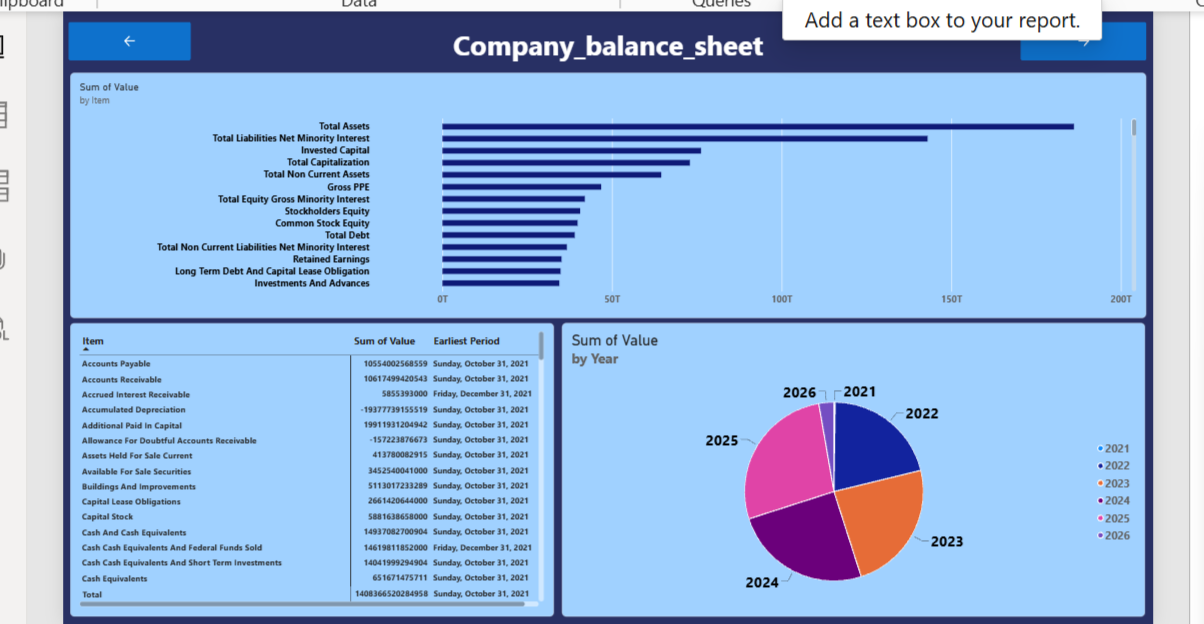

The page's visual inventory and layout, read from the dashboard file:
{"tool":"powerbi","page":{"name":"company_balance_sheet","canvas":[1920,1080],"ordinal":3},"visuals":[{"type":"textbox","box":[10.9,23.5,1896.5,83.2],"z":0},{"type":"barChart","fields":{"Category":["03_company_balance_sheet.Item"],"Y":["Sum(03_company_balance_sheet.Value)"]},"box":[10.9,106.8,1896.5,432.5],"z":1000},{"type":"actionButton","box":[10,20,216,68],"z":2000},{"type":"actionButton","box":[1686,20,222,68],"z":3000},{"type":"pivotTable","fields":{"Rows":["03_company_balance_sheet.Item"],"Values":["Sum(03_company_balance_sheet.Value)","Min(03_company_balance_sheet.Period)"]},"box":[10.9,550.1,852.4,517.6],"z":4000},{"type":"pieChart","fields":{"Category":["03_company_balance_sheet.Period.Variation.Date Hierarchy.Year","03_company_balance_sheet.Period.Variation.Date Hierarchy.Quarter","03_company_balance_sheet.Period.Variation.Date Hierarchy.Month","03_company_balance_sheet.Period.Variation.Date Hierarchy.Day","03_company_balance_sheet.Item"],"Y":["Sum(03_company_balance_sheet.Value)"]},"box":[879.5,550.1,1027.9,517.6],"z":5000}]}

Visuals, with their boxes in screenshot pixels (x1, y1, x2, y2):
textbox: select_region(63, 20, 1143, 67)
barChart - 03_company_balance_sheet.Item x Sum(03_company_balance_sheet.Value): select_region(63, 67, 1143, 314)
actionButton: select_region(62, 18, 185, 56)
actionButton: select_region(1017, 18, 1144, 56)
pivotTable - 03_company_balance_sheet.Item x Sum(03_company_balance_sheet.Value): select_region(63, 320, 548, 615)
pieChart - 03_company_balance_sheet.Period.Variation.Date Hierarchy.Year x 03_company_balance_sheet.Period.Variation.Date Hierarchy.Quarter: select_region(558, 320, 1143, 615)
